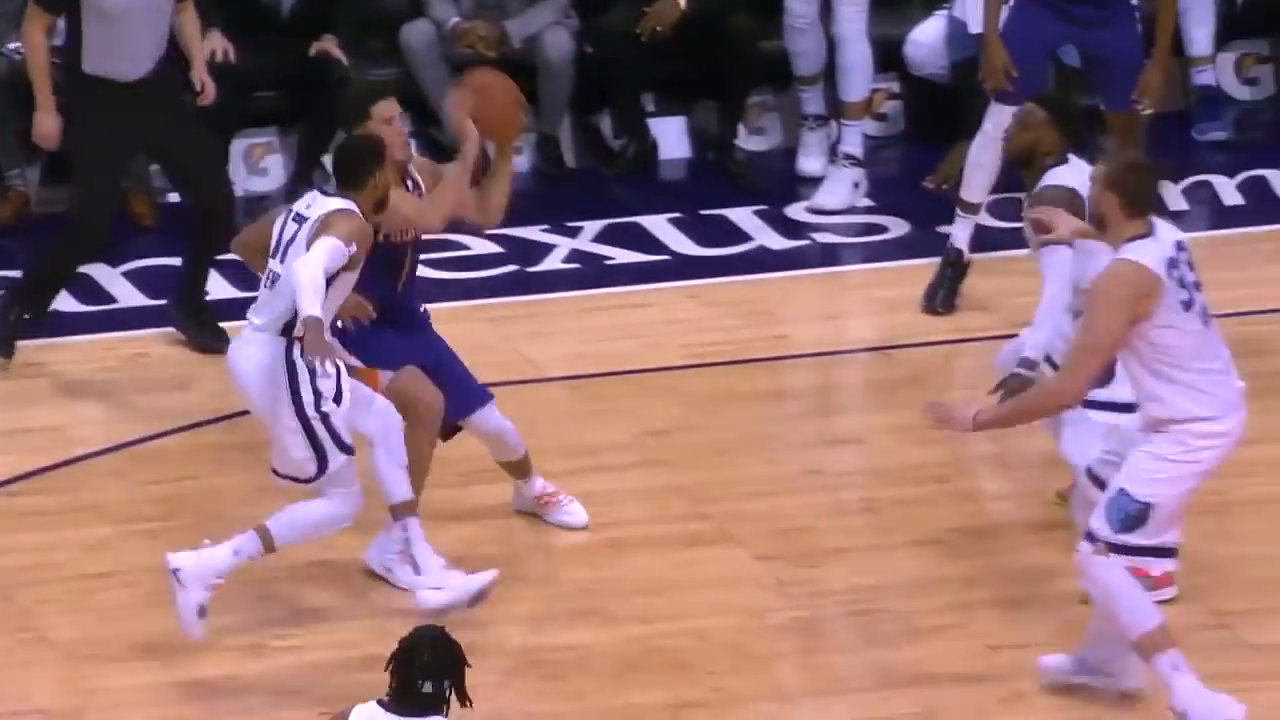ball: (451, 71, 533, 140)
